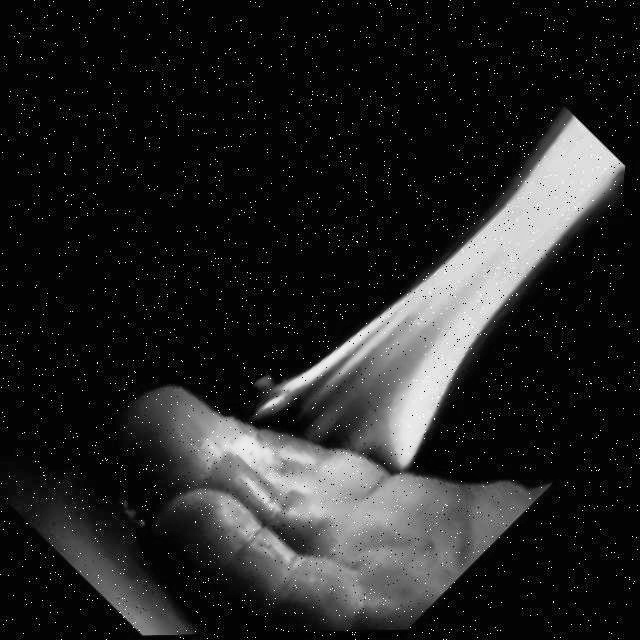Fire: (232, 89, 634, 533)
